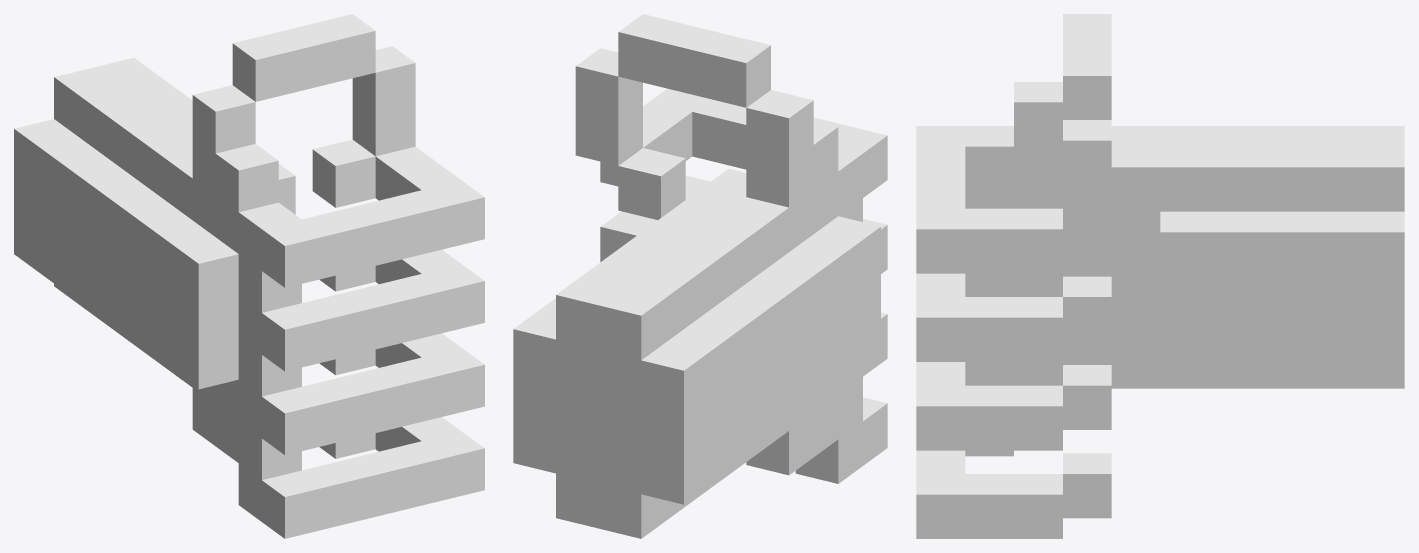
The model's file is skelet-0.obj.
3 renders of one model, left to right at view 1: azimuth 30°, elevation 25°; view 2: azimuth 150°, elevation 25°; view 3: azimuth 270°, elevation 25°, orthographic. The views are drawn at different scales.
Bounding box in the file's own units: 0.6 × 1 × 1.
Materials: 1 (1 with a texture image).
